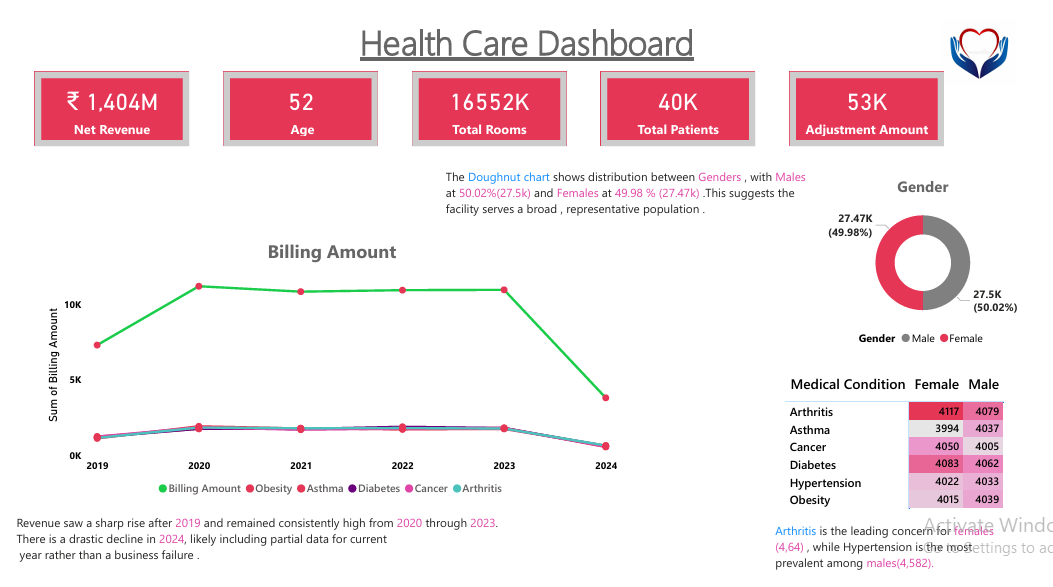

The dashboard page shown, as its layout file describes it:
{"tool":"powerbi","page":{"name":"Healthcare 1","canvas":[1280,720],"ordinal":0},"visuals":[{"type":"textbox","box":[381.3,0,522.4,94.1],"z":0},{"type":"image","box":[1137.2,0,142.8,94.1],"z":1000},{"type":"card","fields":{"Values":["healthcare_dataset.Net Revenue"]},"box":[26.8,72.1,193.2,92.4],"z":2000},{"type":"card","fields":{"Values":["Sum(healthcare_dataset.Room Number)"]},"box":[498.8,72.1,193.2,92.4],"z":3000},{"type":"card","fields":{"Values":["Avg(healthcare_dataset.Age)"]},"box":[262.8,72.1,193.2,92.4],"z":4000},{"type":"card","fields":{"Values":["healthcare_dataset.Total Patients"]},"box":[734.9,72.1,193.2,92.4],"z":5000},{"type":"card","fields":{"Values":["healthcare_dataset.Adjustment Amount"]},"box":[970.9,72.1,193.2,92.4],"z":6000},{"type":"lineChart","title":"Billing Amount ","fields":{"Y":["CountNonNull(healthcare_dataset.Billing Amount)","healthcare_dataset.Obesity","healthcare_dataset.Asthma","healthcare_dataset.Diabetes","healthcare_dataset.Cancer","healthcare_dataset.Arthritis"],"Category":["healthcare_dataset.Date of Admission.Variation.Date Hierarchy.Year"]},"box":[36.9,279.5,722.9,330.7],"z":7000,"group":"g1"},{"type":"donutChart","title":" Gender","fields":{"Category":["healthcare_dataset.Gender"],"Y":["CountNonNull(healthcare_dataset.Name)"]},"box":[1002.4,201.9,269.3,221],"z":8000,"group":"g2"},{"type":"group","id":"g1","title":"Group 1","box":[-0.7,279.5,760.5,426.6],"z":9000},{"type":"pivotTable","fields":{"Rows":["healthcare_dataset.Medical Condition"],"Columns":["healthcare_dataset.Gender"],"Values":["Count(healthcare_dataset.Name)"]},"box":[960.8,443.5,294,179.7],"z":9000,"group":"g3"},{"type":"group","id":"g2","title":"Group 2","box":[535.6,187.3,736.1,235.6],"z":10000},{"type":"group","id":"g3","title":"Group 3","box":[948.3,443.5,307.3,264.8],"z":11000},{"type":"textbox","box":[-0.7,618.3,692.2,87.8],"z":12000,"group":"g1"},{"type":"textbox","box":[535.6,187.3,466.8,80.5],"z":13000,"group":"g2"},{"type":"textbox","box":[948.3,629.3,307.3,79],"z":14000,"group":"g3"}]}

Visuals, with their boxes in screenshot pixels (x1, y1, x2, y2), scaled from the page's 1280x720 canvas onto the 1053x587 screenshot:
textbox: {"left": 314, "top": 0, "right": 743, "bottom": 77}
image: {"left": 936, "top": 0, "right": 1052, "bottom": 77}
card - healthcare_dataset.Net Revenue: {"left": 22, "top": 59, "right": 181, "bottom": 134}
card - Sum(healthcare_dataset.Room Number): {"left": 410, "top": 59, "right": 569, "bottom": 134}
card - Avg(healthcare_dataset.Age): {"left": 216, "top": 59, "right": 375, "bottom": 134}
card - healthcare_dataset.Total Patients: {"left": 605, "top": 59, "right": 764, "bottom": 134}
card - healthcare_dataset.Adjustment Amount: {"left": 799, "top": 59, "right": 958, "bottom": 134}
"Billing Amount " lineChart: {"left": 30, "top": 228, "right": 625, "bottom": 497}
" Gender" donutChart: {"left": 825, "top": 165, "right": 1046, "bottom": 345}
"Group 1" group: {"left": 0, "top": 228, "right": 625, "bottom": 576}
pivotTable - healthcare_dataset.Medical Condition x healthcare_dataset.Gender: {"left": 790, "top": 362, "right": 1032, "bottom": 508}
"Group 2" group: {"left": 441, "top": 153, "right": 1046, "bottom": 345}
"Group 3" group: {"left": 780, "top": 362, "right": 1033, "bottom": 577}
textbox: {"left": 0, "top": 504, "right": 569, "bottom": 576}
textbox: {"left": 441, "top": 153, "right": 825, "bottom": 218}
textbox: {"left": 780, "top": 513, "right": 1033, "bottom": 577}
